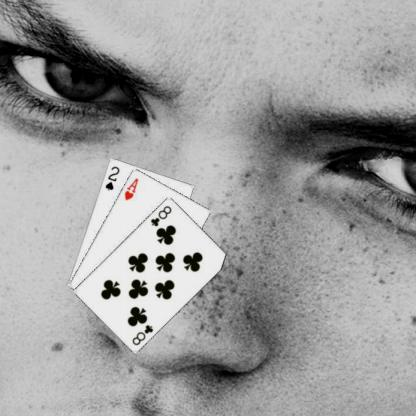2S: (102, 164, 120, 192)
8C: (148, 203, 172, 228), (130, 322, 154, 346)
AH: (122, 175, 140, 201)
